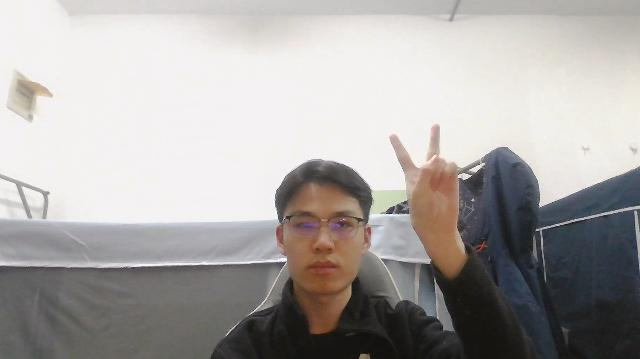two: (387, 123, 463, 228)
